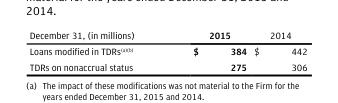table: (28, 29, 306, 71)
table column: (28, 29, 163, 71), (163, 29, 249, 71), (249, 29, 306, 71)
table column header: (28, 29, 306, 42)
table row: (28, 42, 306, 58), (28, 29, 306, 42), (28, 58, 306, 71)
